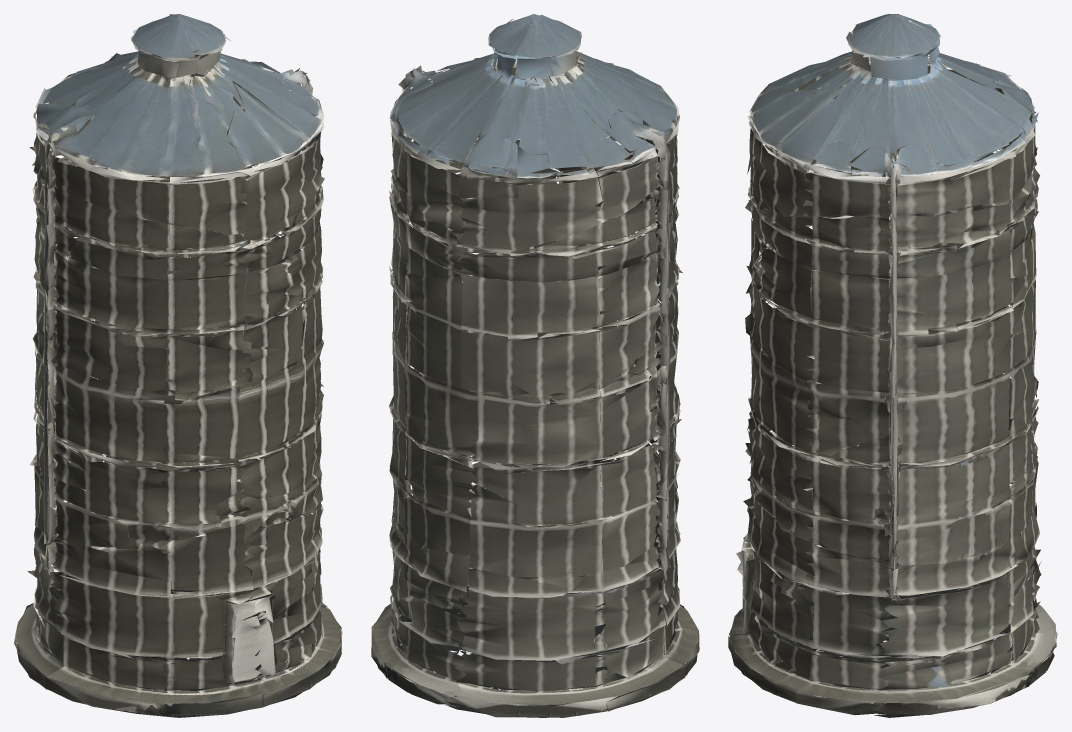
Rendered from silo.f927ddcdcafd.glb.
The picture shows the model from 3 angles, left to right: view 1: azimuth 30°, elevation 25°; view 2: azimuth 150°, elevation 25°; view 3: azimuth 270°, elevation 25°; orthographic projection.
Parts seen in each view (by area): view 1: Mesh_0; view 2: Mesh_0; view 3: Mesh_0.
Part boxes in pixels (x1=…): Mesh_0: x1=14, y1=14, x2=342, y2=717; Mesh_0: x1=371, y1=14, x2=699, y2=717; Mesh_0: x1=728, y1=14, x2=1057, y2=717.
Size of the model in its own units: 3.52 by 7.5 by 3.53.
1 material, 1 textured.
